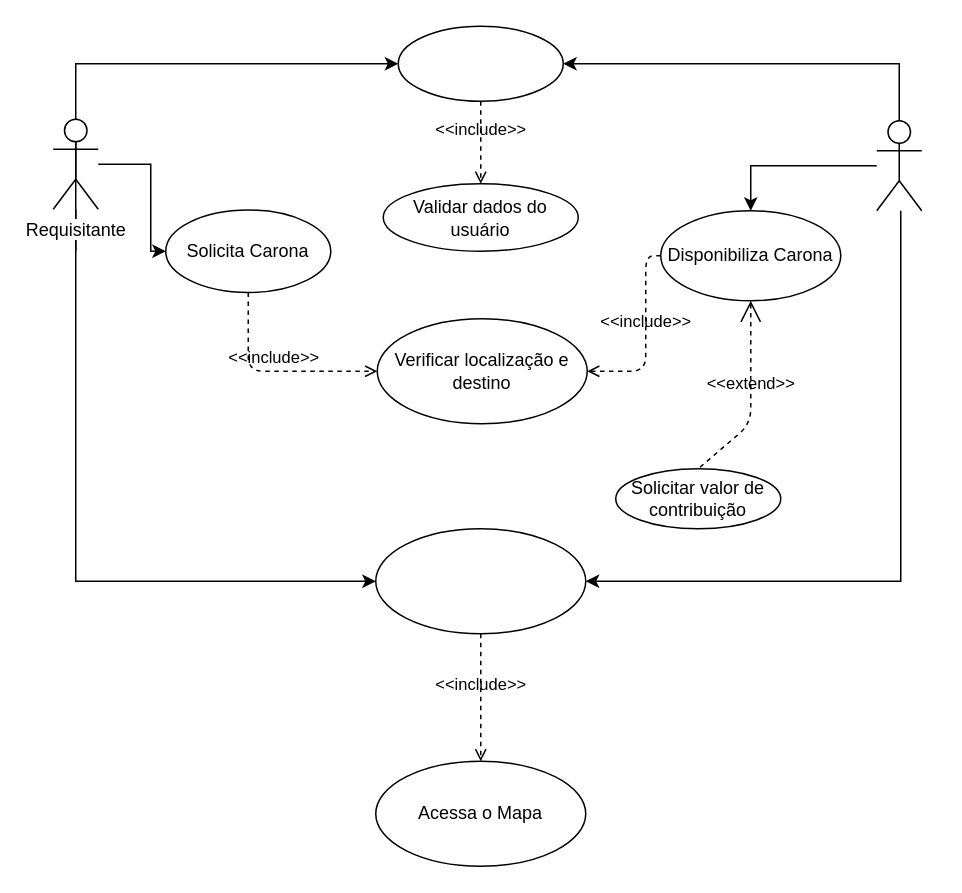
This 962x893 diagram has some shape labels left out. Each missing label, with the centre of its shape:
Aceita Carona: (480,580)
Motorista: (898,165)
Realiza Cadastro: (480,63)
